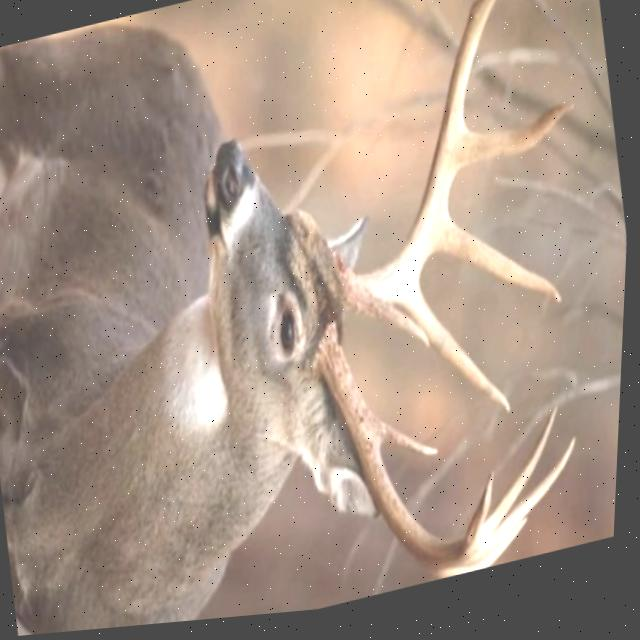L-G1: (338, 261, 435, 357)
L-G2: (401, 288, 516, 422)
L-G3: (437, 220, 566, 315)
L-G4: (460, 112, 577, 179)
R-F: (317, 329, 500, 579)
R-G1: (378, 420, 443, 464)
